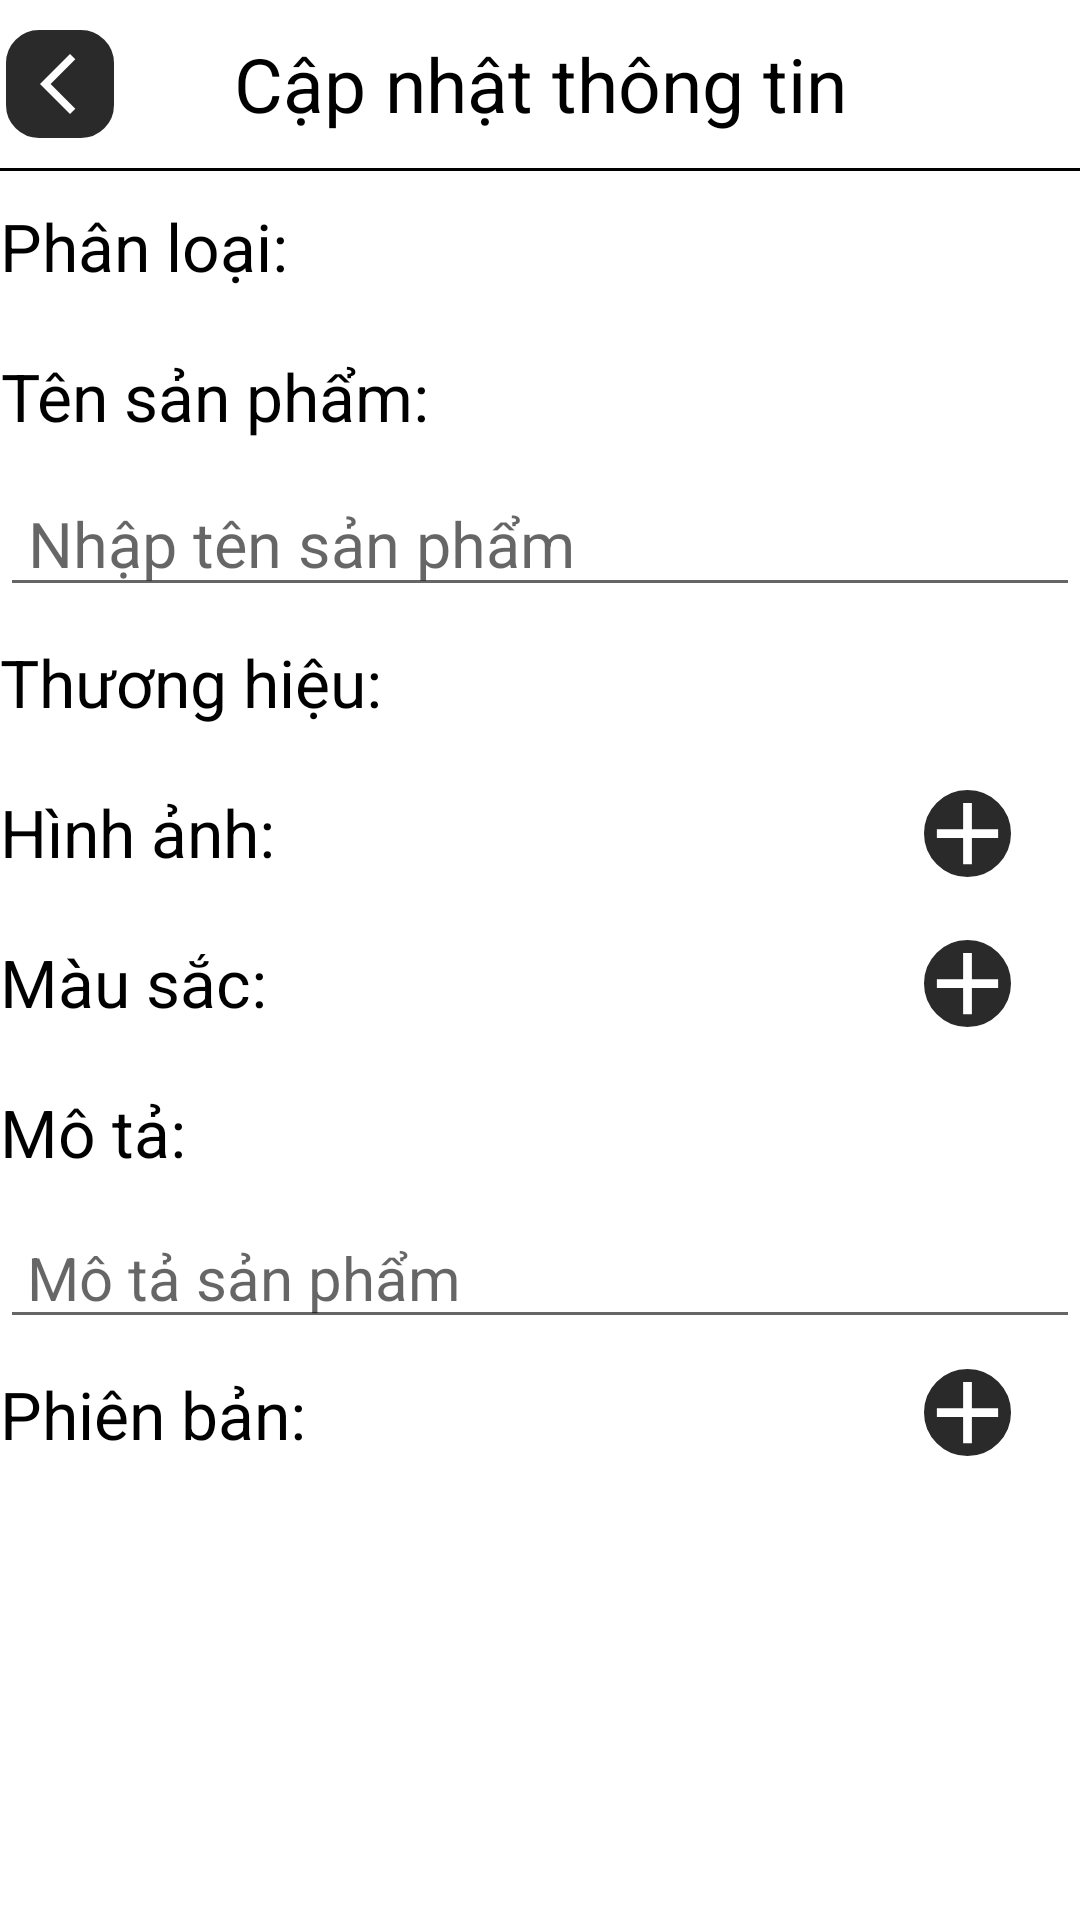

Locate icon controls on the screen. Image size 1080px×1920px, boxes as {"x1": x1, "y1": y1, "x2": x2, "y2": y2}.
add: {"x1": 924, "y1": 790, "x2": 1011, "y2": 877}, {"x1": 924, "y1": 940, "x2": 1011, "y2": 1027}, {"x1": 924, "y1": 1369, "x2": 1011, "y2": 1456}
back: {"x1": 40, "y1": 54, "x2": 75, "y2": 114}
